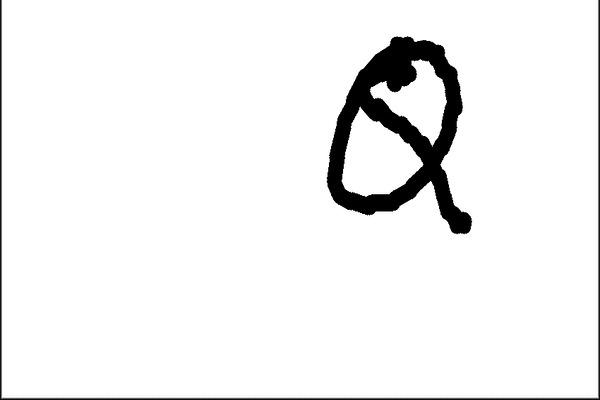Q: (318, 22, 467, 238)
